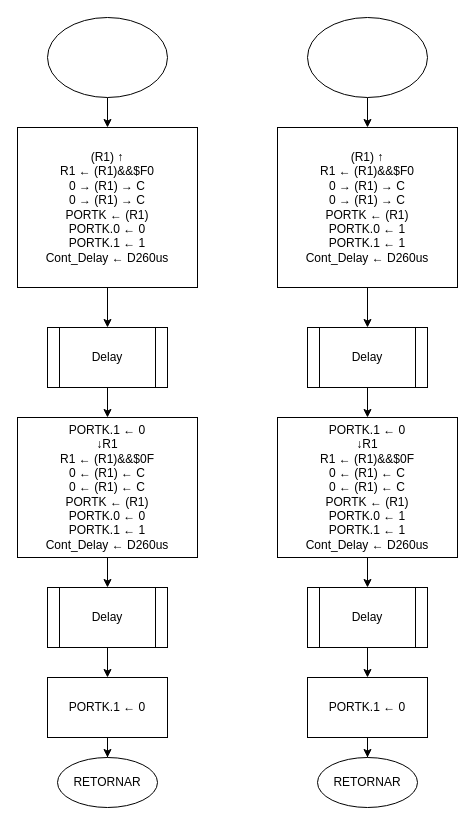
This 475x825 diagram has some shape labels left out. Here are the shapes that lost their labels. From the top down, the centre of each, then its label:
(107,57): Send_Command
(367,57): Send_Data
